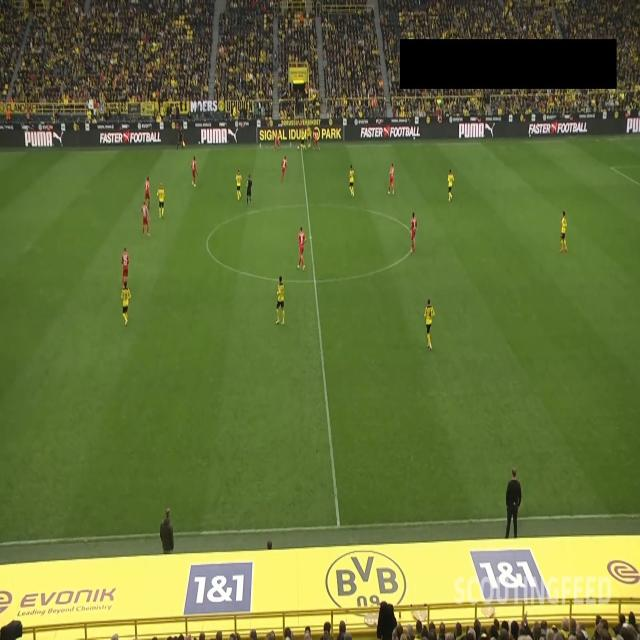ball: (296, 145, 300, 150)
